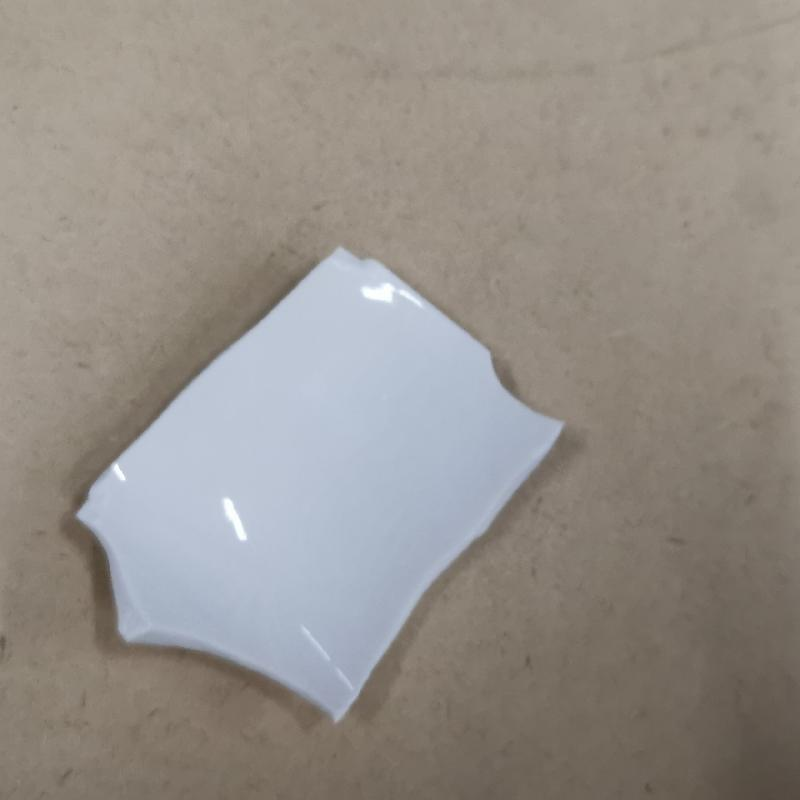ceram: (70, 244, 566, 728)
